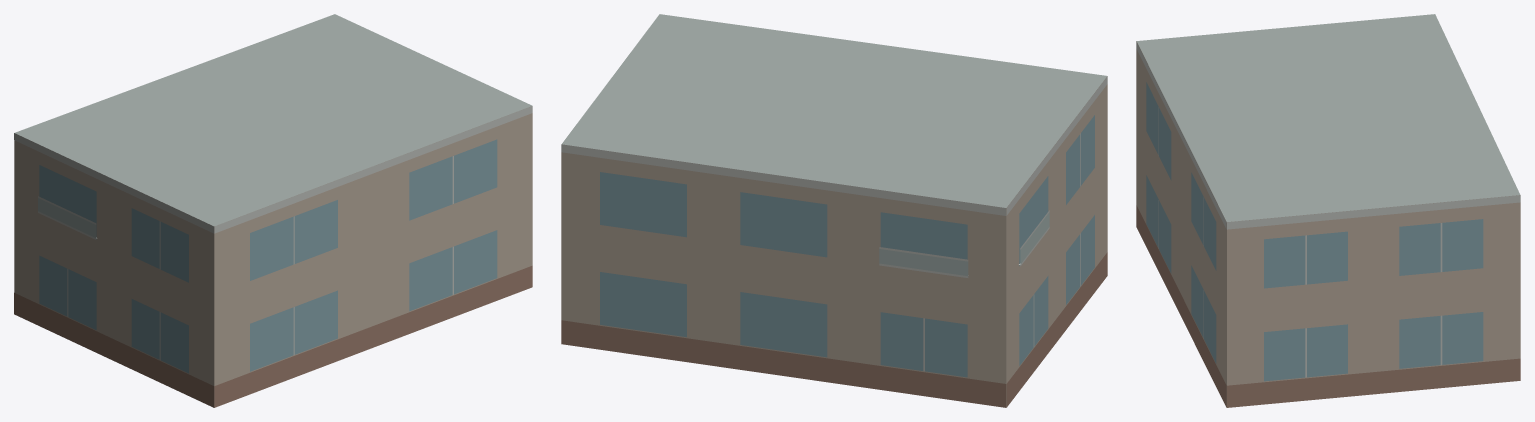
Rendered from survey-upis-32699344.glb.
The picture shows the model from 3 angles, left to right: view 1: azimuth 30°, elevation 25°; view 2: azimuth 150°, elevation 25°; view 3: azimuth 270°, elevation 25°; orthographic projection. The views are drawn at different scales.
Visible parts, largest first — view 1: survey-upis-32699344.tmp; view 2: survey-upis-32699344.tmp; view 3: survey-upis-32699344.tmp.
Part boxes in pixels (x1,y1,x2,y2): survey-upis-32699344.tmp: [14, 14, 532, 407]; survey-upis-32699344.tmp: [561, 14, 1107, 407]; survey-upis-32699344.tmp: [1136, 14, 1520, 407].
Size of the model in its own units: 14.67 by 6.1 by 11.44.
